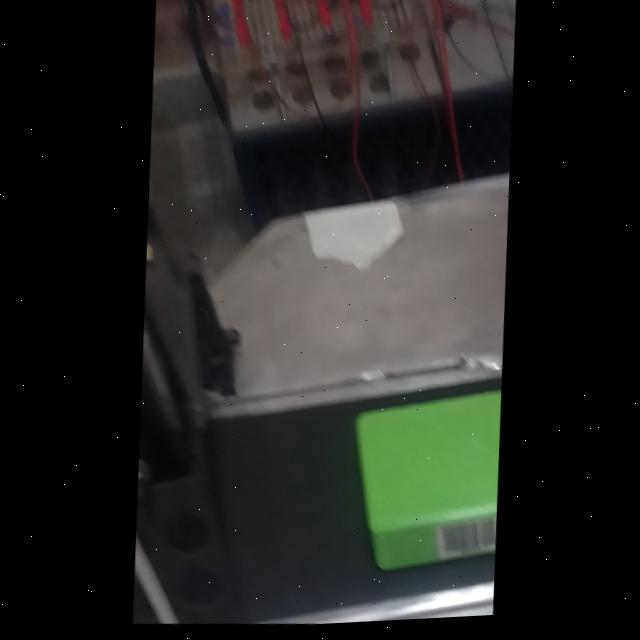greenBox: (324, 369, 503, 598)
